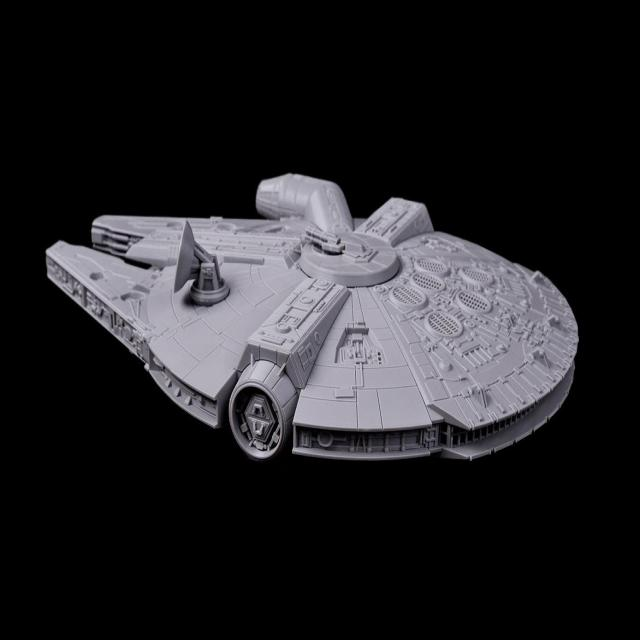Without deffect: (54, 160, 582, 491)
